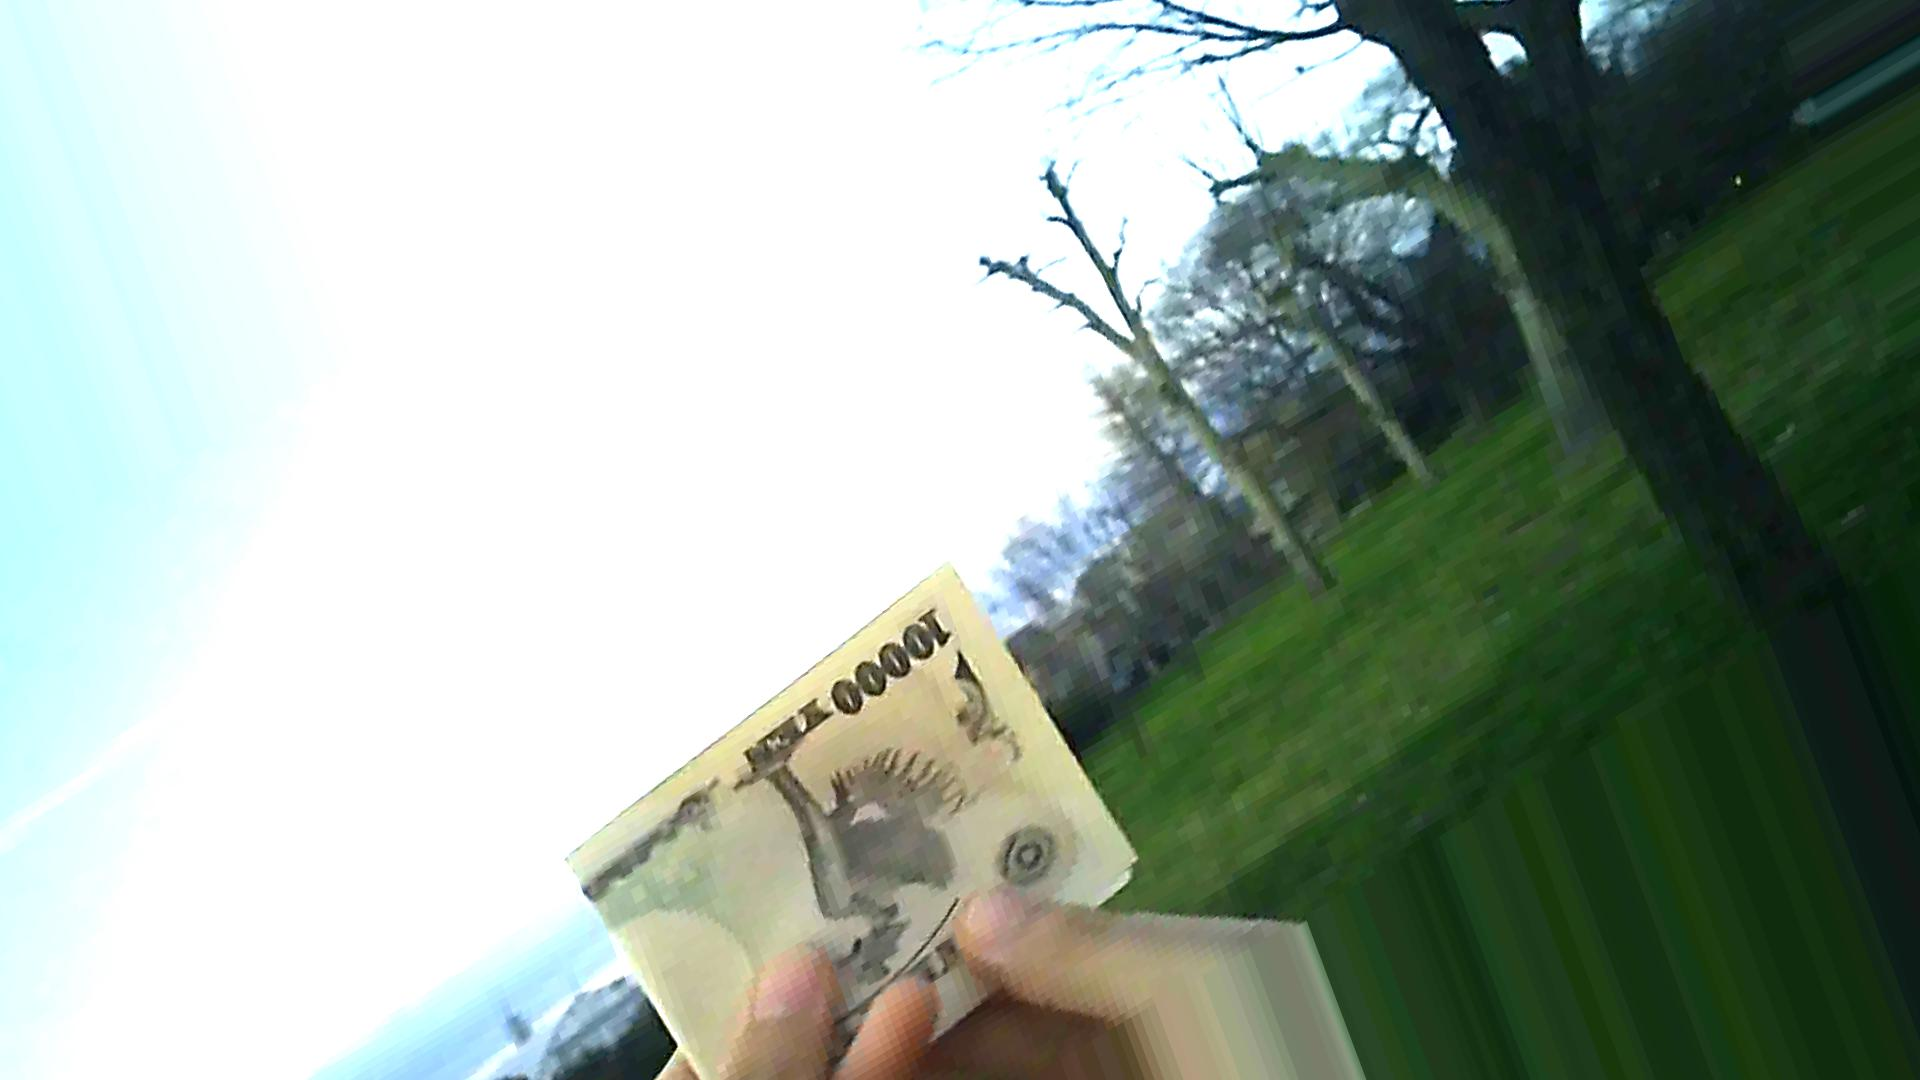10,000 Yen: (562, 571, 1139, 1079)
